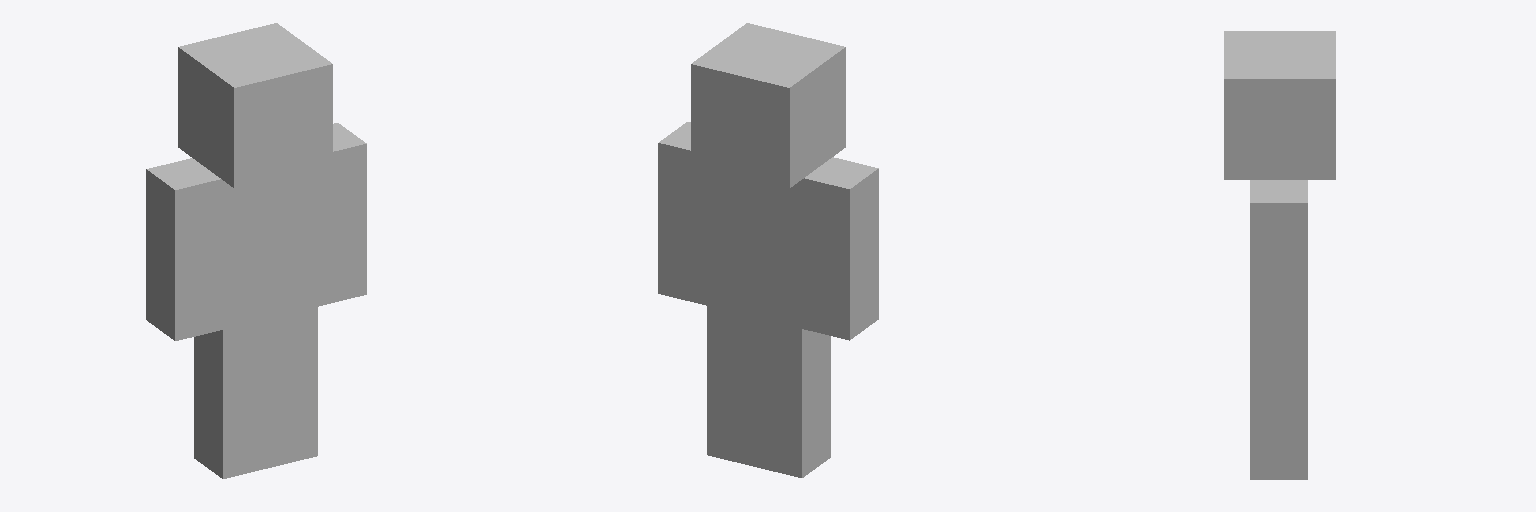
The model's file is skin.obj.
The picture shows the model from 3 angles: view 1: azimuth 30°, elevation 25°; view 2: azimuth 150°, elevation 25°; view 3: azimuth 270°, elevation 25°; orthographic projection.
Parts seen in each view (by area): view 1: arm.L; view 2: arm.L; view 3: arm.L.
Boxes of the visible parts, x1=… form: arm.L: x1=146, y1=23, x2=366, y2=478; arm.L: x1=658, y1=23, x2=878, y2=477; arm.L: x1=1224, y1=31, x2=1335, y2=479.
Bounding box in the file's own units: 1.12 × 2.25 × 0.5717.